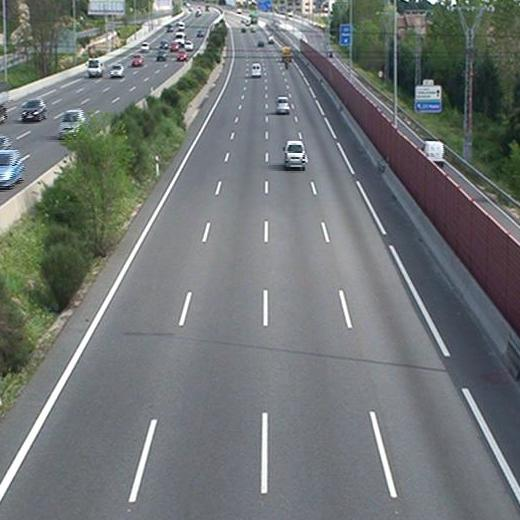car: (283, 140, 306, 169), (275, 97, 292, 116)
motorcycle: (284, 56, 289, 69)
small-truck: (280, 46, 293, 61)
van: (250, 63, 261, 78)
